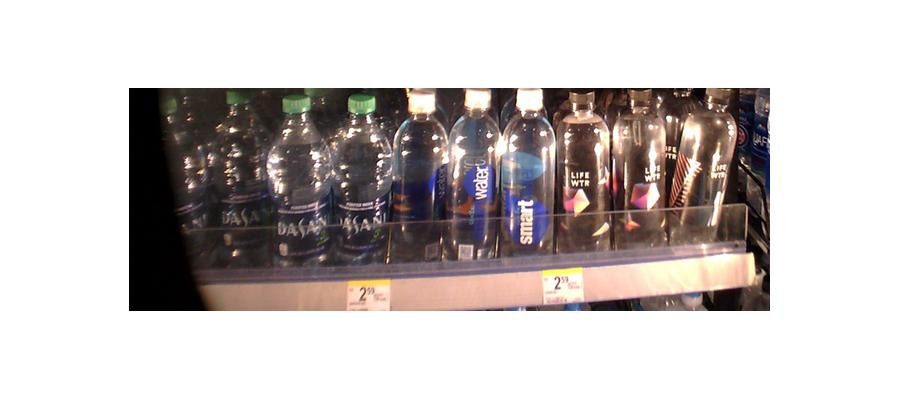bottle: (164, 99, 242, 268), (669, 86, 736, 248), (271, 89, 329, 267), (212, 91, 269, 266), (443, 91, 501, 261), (330, 95, 388, 264), (500, 90, 556, 258), (387, 99, 443, 259), (557, 91, 611, 251), (614, 90, 668, 248)
